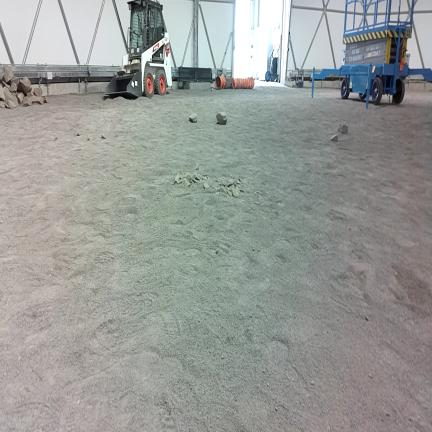Rock: (18, 77, 31, 95), (4, 65, 13, 82), (4, 88, 13, 103), (217, 112, 227, 124), (29, 96, 43, 104), (12, 93, 19, 106), (22, 96, 31, 106), (219, 244, 229, 253), (33, 88, 42, 97), (17, 93, 24, 104), (0, 86, 5, 101), (189, 113, 197, 122), (182, 177, 190, 186), (174, 174, 181, 184), (10, 82, 17, 92), (11, 77, 19, 85), (340, 125, 348, 133), (232, 188, 239, 197), (2, 82, 10, 89), (331, 134, 338, 142), (8, 101, 16, 108), (184, 173, 190, 180), (0, 101, 6, 108), (195, 175, 201, 181), (338, 124, 342, 132), (227, 189, 232, 195), (204, 182, 209, 188), (43, 96, 47, 103), (0, 73, 3, 82), (365, 316, 369, 321), (101, 134, 105, 139), (216, 249, 219, 254), (369, 373, 372, 378), (196, 166, 199, 170), (77, 133, 80, 136), (87, 136, 89, 140)
